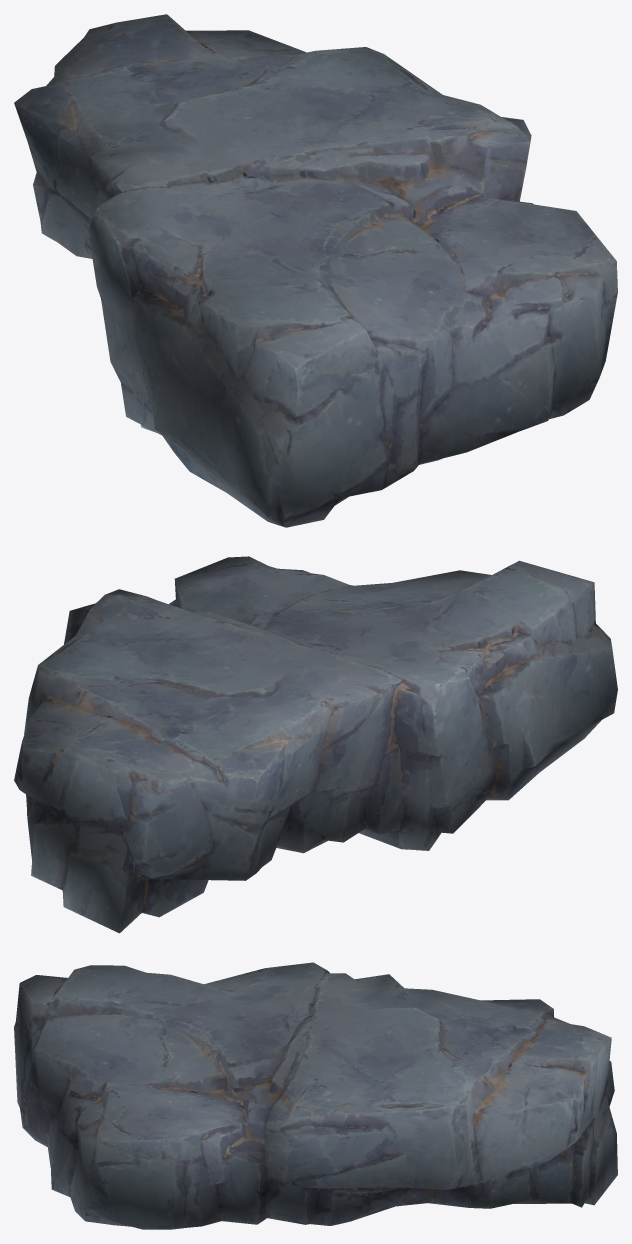
The model's file is Area_Cyjy_Rock_Common_Full_L_01.fbx.
3 renders of one model, top to bottom at view 1: azimuth 30°, elevation 25°; view 2: azimuth 150°, elevation 25°; view 3: azimuth 270°, elevation 25°, orthographic. The views are drawn at different scales.
Visible parts, largest first — view 1: Area_Cyjy_Rock_Common_Full_L_01_Lod0; view 2: Area_Cyjy_Rock_Common_Full_L_01_Lod0; view 3: Area_Cyjy_Rock_Common_Full_L_01_Lod0.
Part boxes in pixels (box(x1,y1,x2,y2)): Area_Cyjy_Rock_Common_Full_L_01_Lod0: box(14, 14, 617, 527); Area_Cyjy_Rock_Common_Full_L_01_Lod0: box(14, 556, 617, 933); Area_Cyjy_Rock_Common_Full_L_01_Lod0: box(14, 962, 617, 1229).
Bounding box in the file's own units: 8.14 × 3.78 × 12.07.
Materials: 1 (1 with a texture image).
